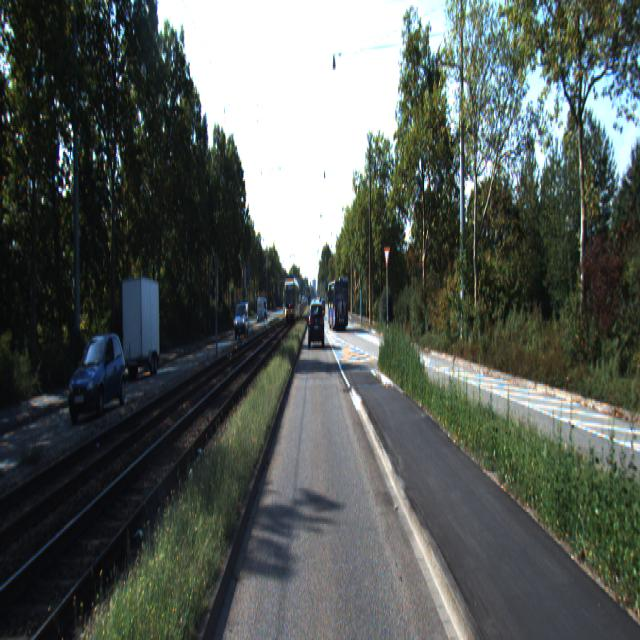Car: (67, 332, 129, 424), (121, 276, 161, 380), (327, 279, 349, 332), (308, 302, 324, 350), (234, 303, 250, 340)
